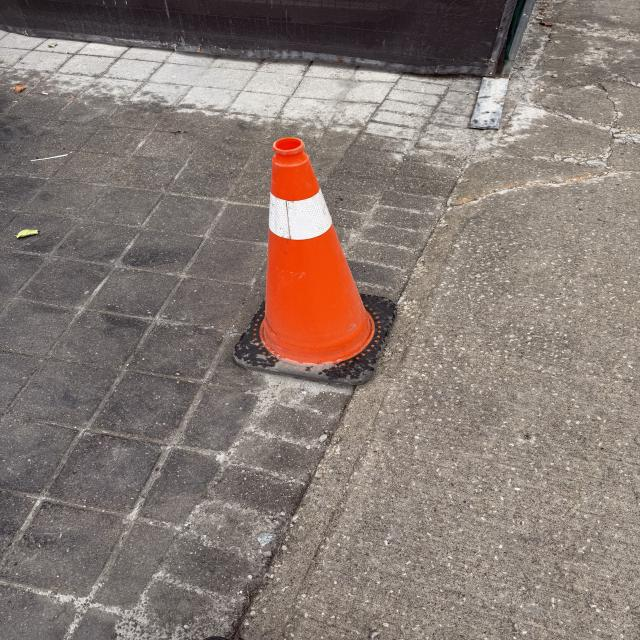Traffic Cone: (232, 136, 404, 386)
